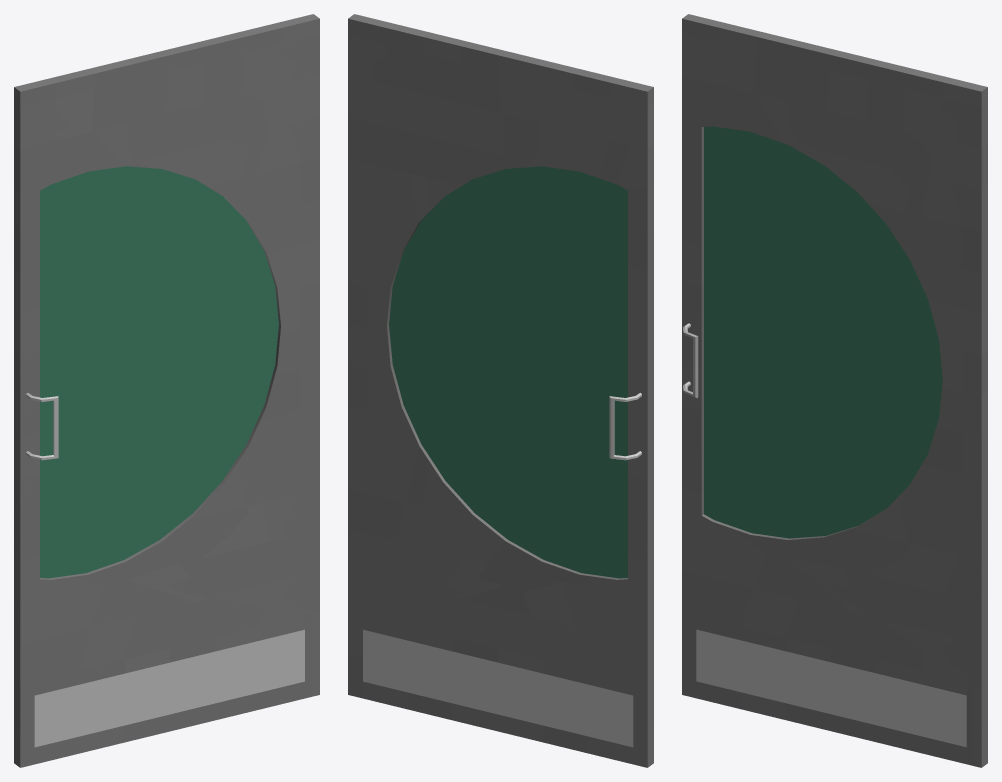
Rendered from SW_corridor__R_lobby_R_aula_ovi_001_1.FBX.
The picture shows the model from 3 angles, left to right: view 1: azimuth 30°, elevation 25°; view 2: azimuth 150°, elevation 25°; view 3: azimuth 330°, elevation 25°; orthographic projection.
Visible parts, largest first — view 1: SW_corridor__R_lobby_R_aula_ovi_001_1; view 2: SW_corridor__R_lobby_R_aula_ovi_001_1; view 3: SW_corridor__R_lobby_R_aula_ovi_001_1.
Boxes of the visible parts, x1,y1,x2,y2 form: SW_corridor__R_lobby_R_aula_ovi_001_1: (14,14,319,767); SW_corridor__R_lobby_R_aula_ovi_001_1: (348,14,653,767); SW_corridor__R_lobby_R_aula_ovi_001_1: (682,14,987,767).
Size of the model in its own units: 94.98 by 16.46 by 205.
